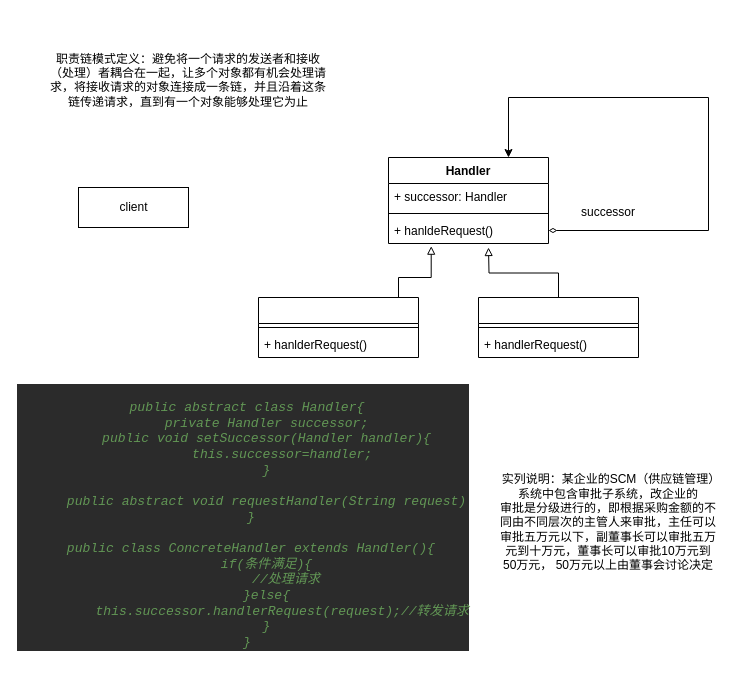
This 735x684 diagram has some shape labels left out. The shapes that lost their labels are listed below. From the top down, each one's box as (x1, y1, x2, y2) in pixels, then its label:
(258, 296, 418, 358): ConcreteHandlerA
(478, 296, 638, 358): ConcreteHandlerB
